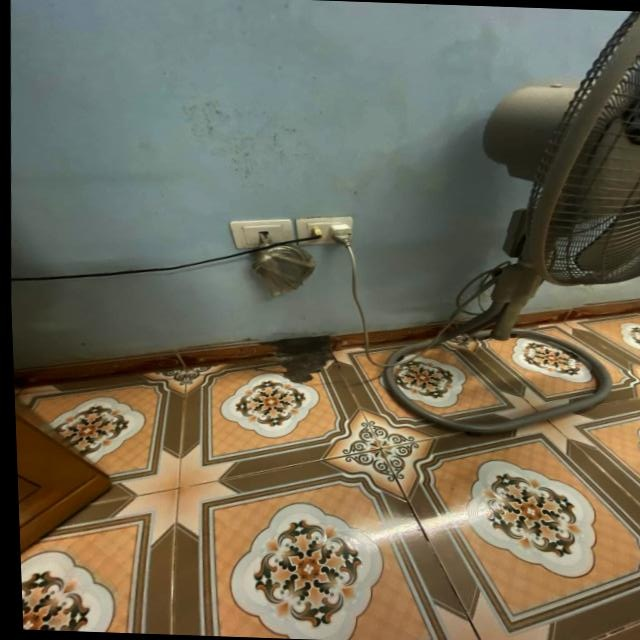outlet: (229, 216, 298, 251), (295, 213, 356, 247)
